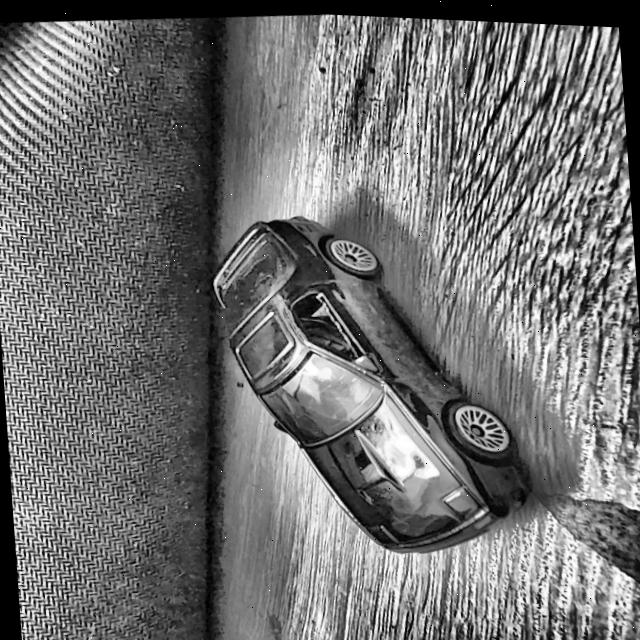car: (207, 193, 532, 565)
